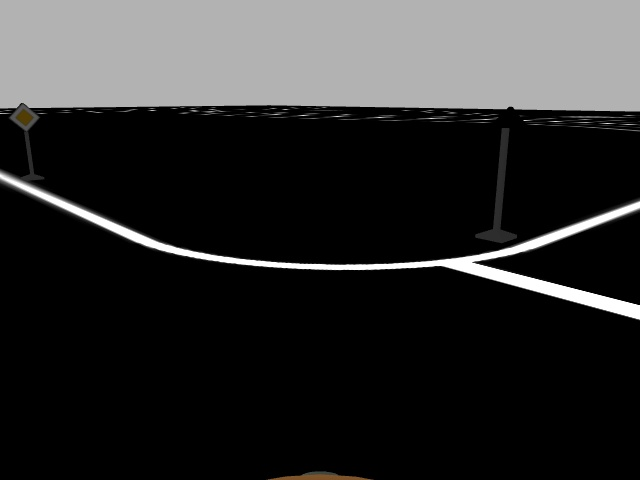priority: (7, 102, 41, 132)
